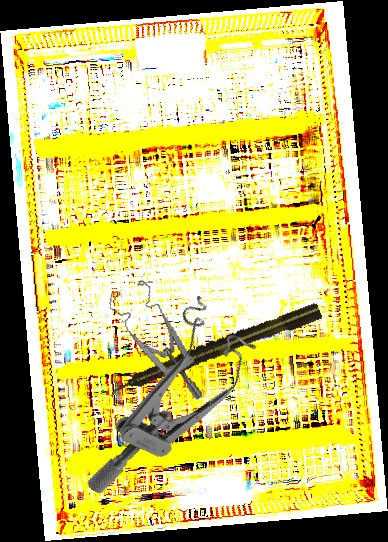Handpiece: (105, 300, 324, 401)
Speculum: (85, 286, 266, 528), (105, 272, 204, 414)
